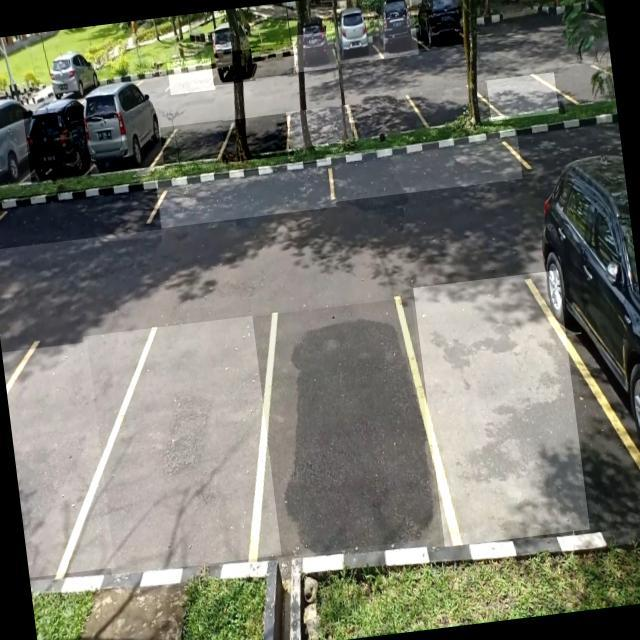empty: (82, 316, 281, 576), (249, 297, 440, 557), (412, 269, 590, 546), (1, 342, 114, 578), (326, 130, 522, 202), (156, 160, 336, 228), (0, 179, 161, 250), (412, 81, 491, 129), (221, 112, 294, 162), (484, 72, 558, 121), (349, 90, 418, 141), (159, 120, 228, 170), (286, 104, 354, 148), (167, 58, 216, 94), (252, 41, 296, 78)
occupied: (80, 107, 166, 175), (22, 104, 91, 184), (414, 6, 466, 52), (374, 14, 419, 59), (332, 22, 378, 64), (291, 31, 336, 72), (210, 49, 255, 86)
